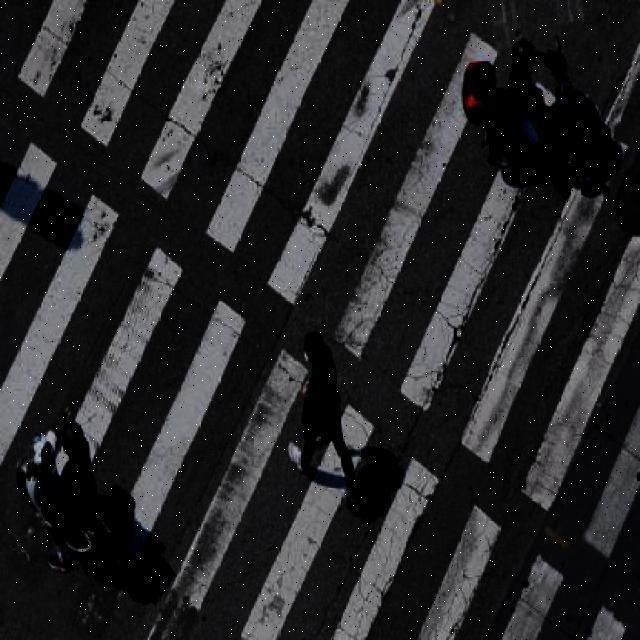crosswalk: (18, 0, 640, 558), (0, 142, 629, 639)
